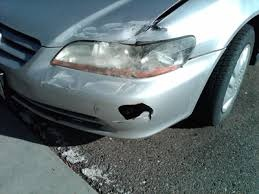Broken-glass: (113, 44, 159, 71)
Dent: (116, 102, 157, 120)
Scratch: (69, 23, 171, 42)
